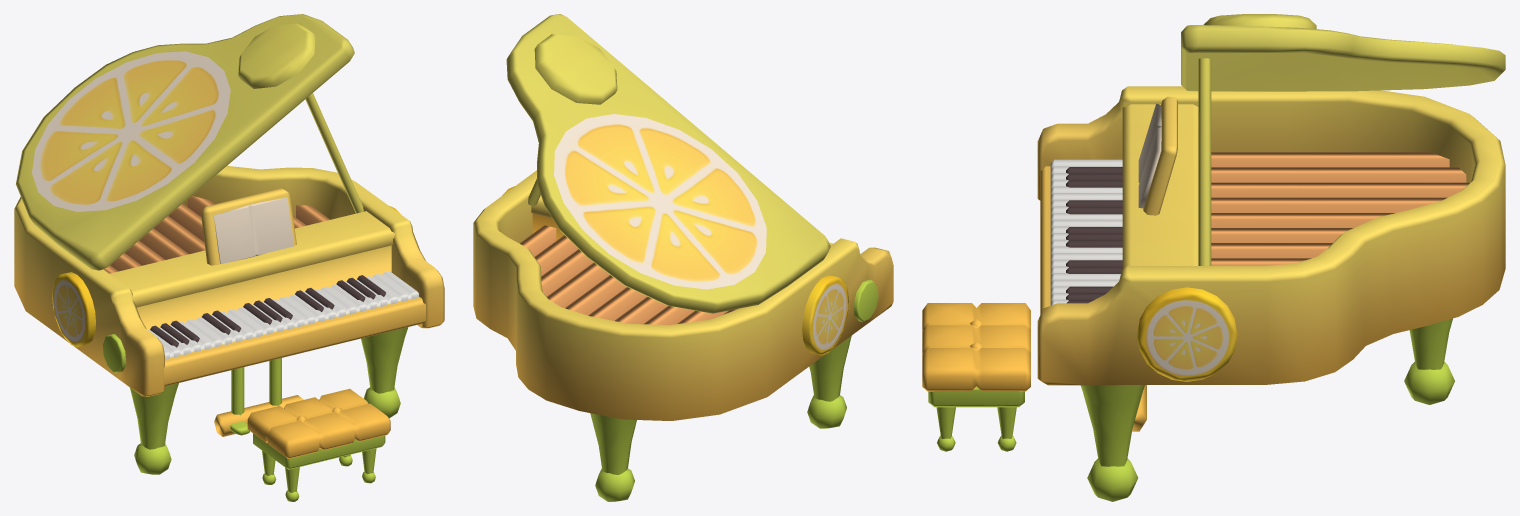
The model's file is Homestead_nm_16.fbx.
3 renders of one model, left to right at view 1: azimuth 30°, elevation 25°; view 2: azimuth 150°, elevation 25°; view 3: azimuth 270°, elevation 25°, orthographic. The views are drawn at different scales.
Visible parts, largest first — view 1: Homestead_nm_16; view 2: Homestead_nm_16; view 3: Homestead_nm_16.
Boxes of the visible parts, x1=… form: Homestead_nm_16: x1=14, y1=14, x2=444, y2=501; Homestead_nm_16: x1=473, y1=14, x2=893, y2=501; Homestead_nm_16: x1=922, y1=14, x2=1505, y2=501.
Bounding box in the file's own units: 262 × 285 × 319.
